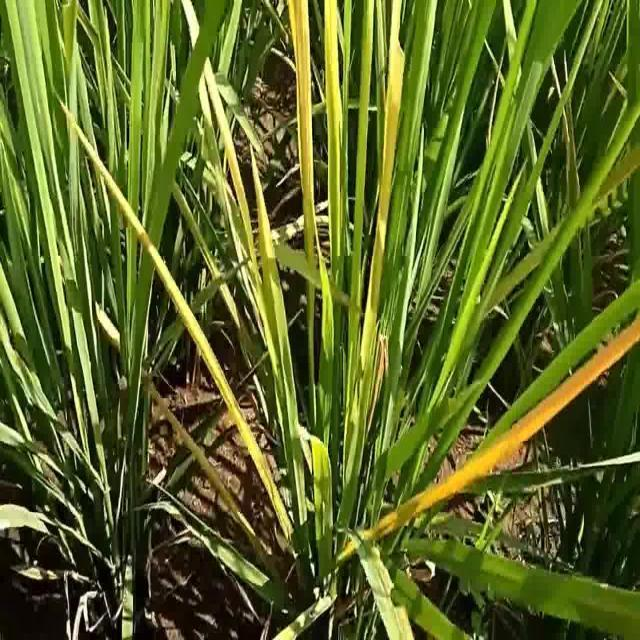Rice Tungro: (371, 311, 639, 544), (57, 86, 231, 412), (179, 1, 250, 242), (365, 1, 409, 343), (245, 143, 294, 387), (288, 1, 318, 270), (320, 1, 344, 248)
